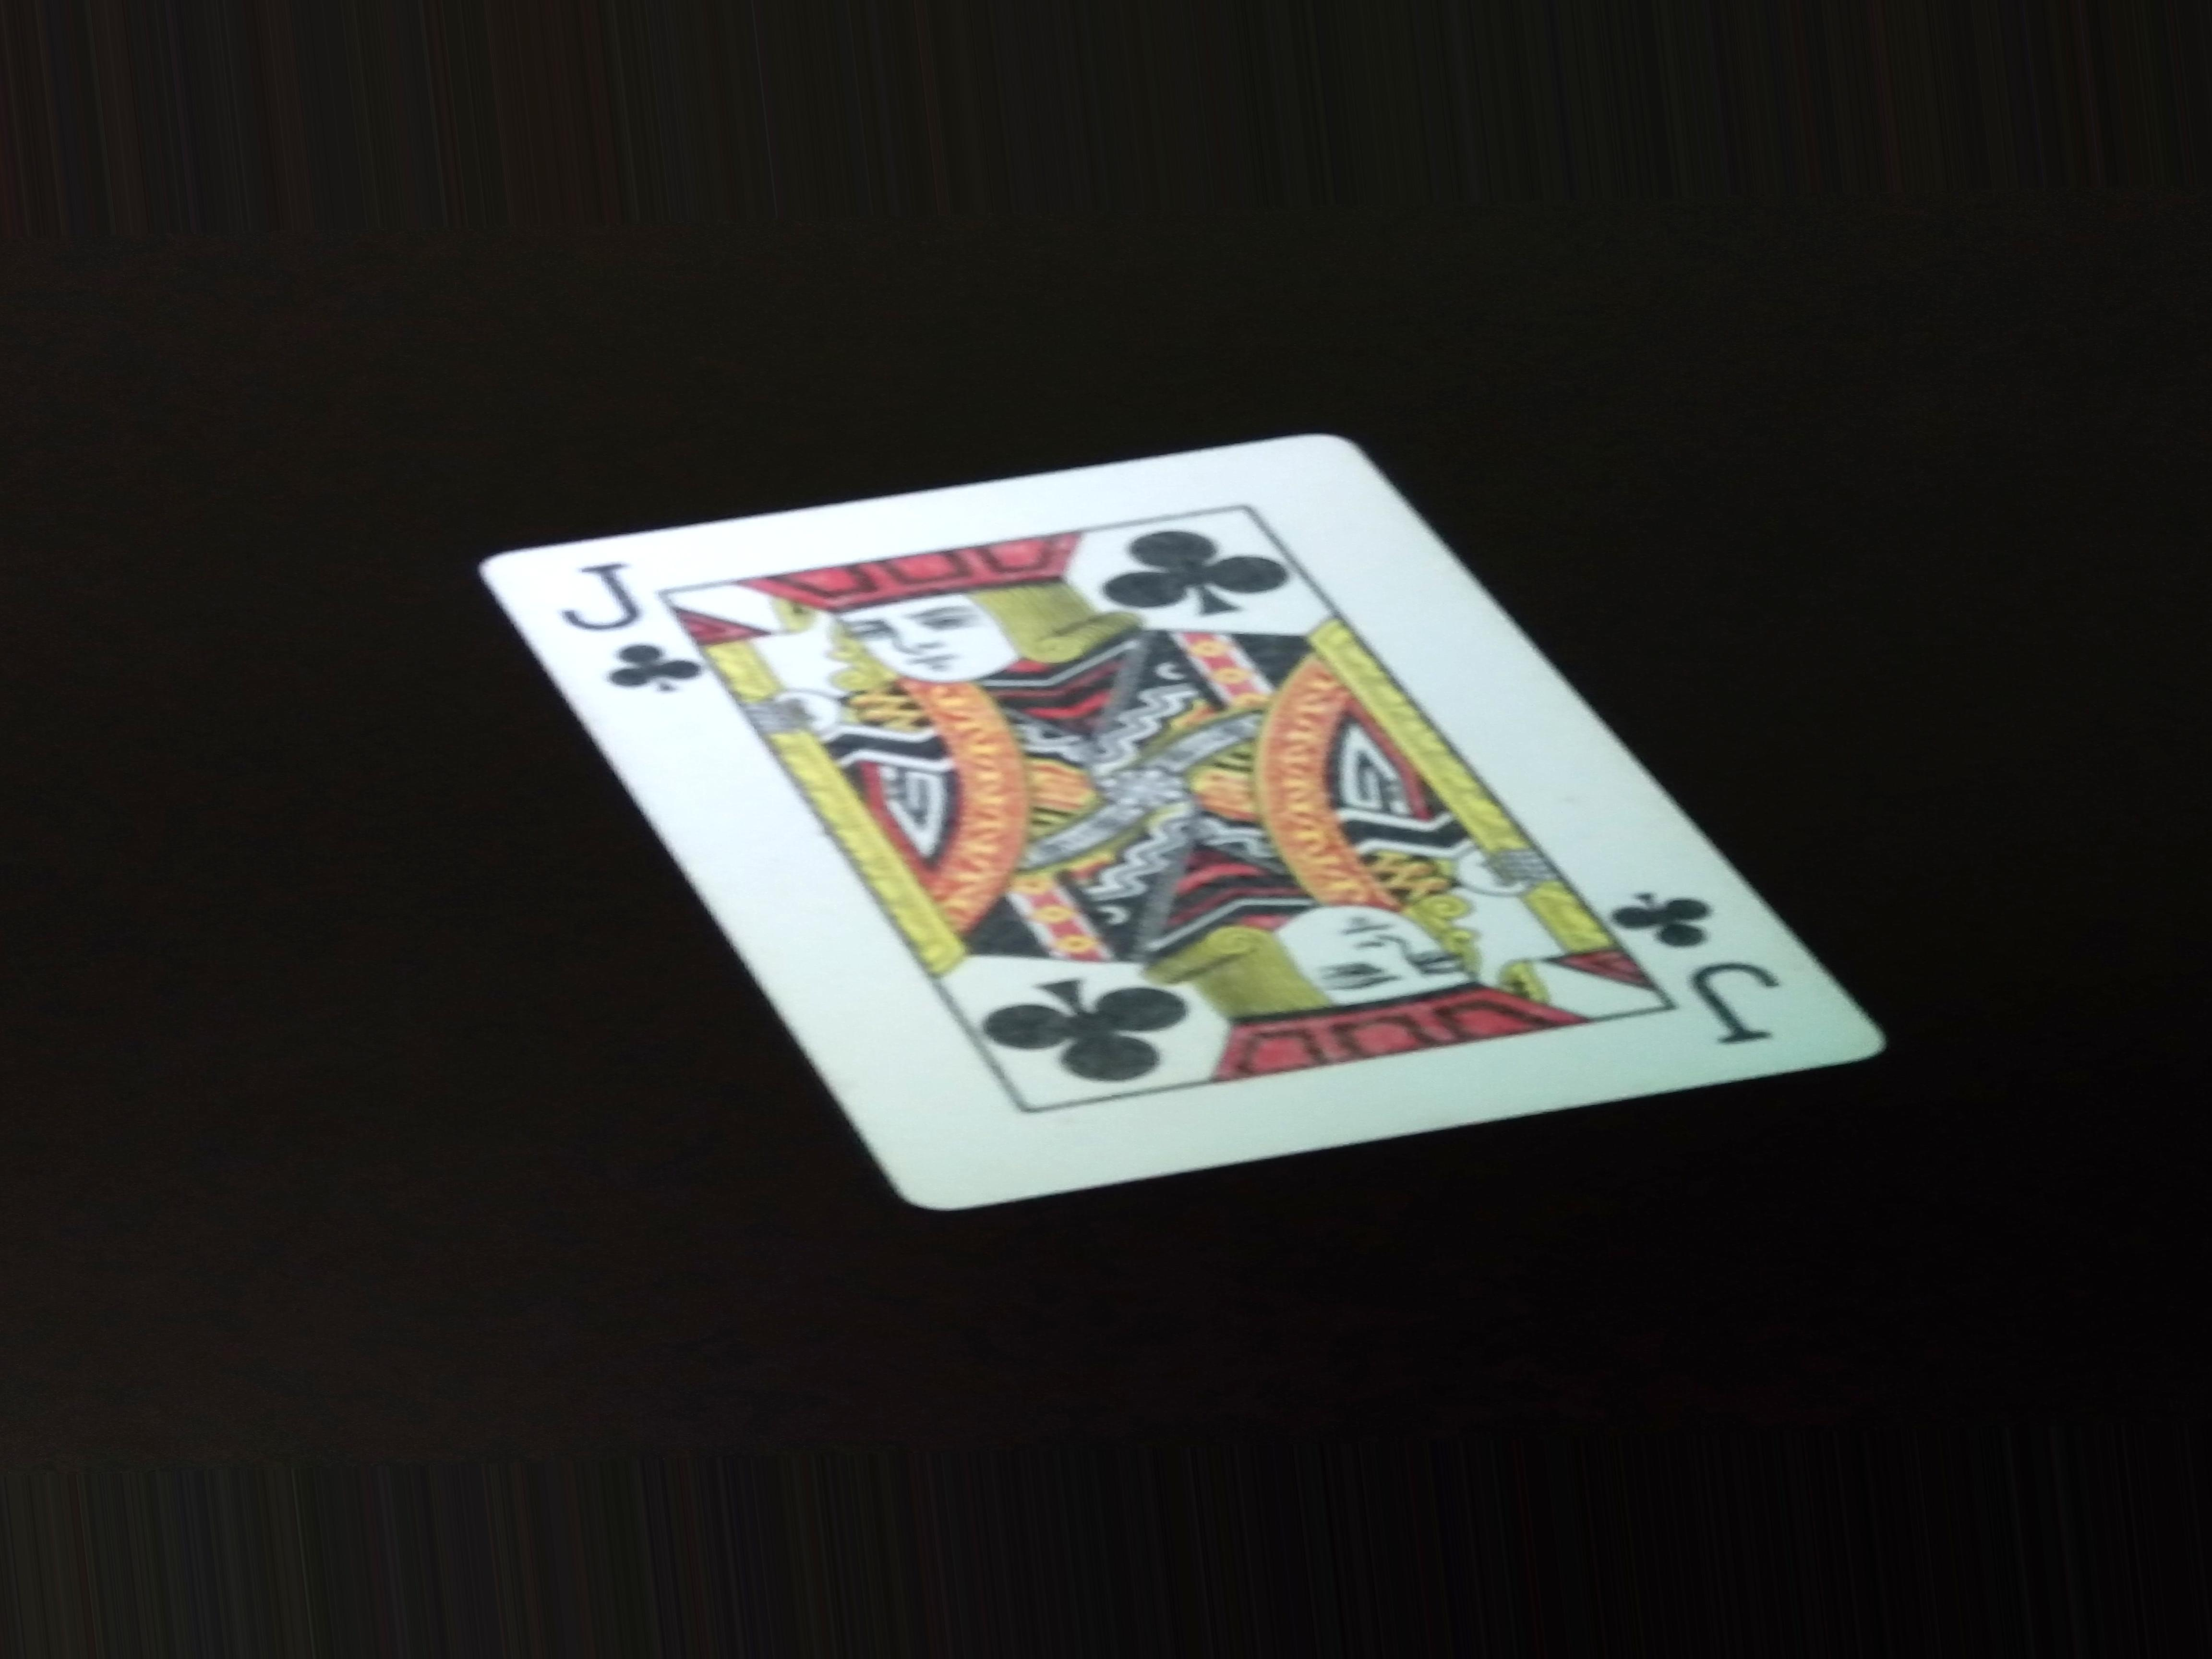JC: (559, 544, 693, 706)
